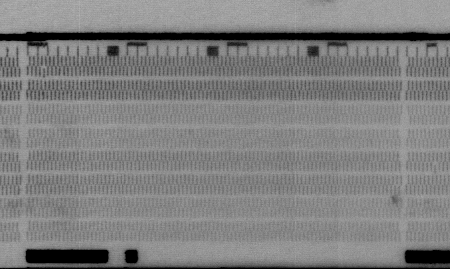Oblique printing: (38, 66, 50, 81), (430, 162, 440, 175)
